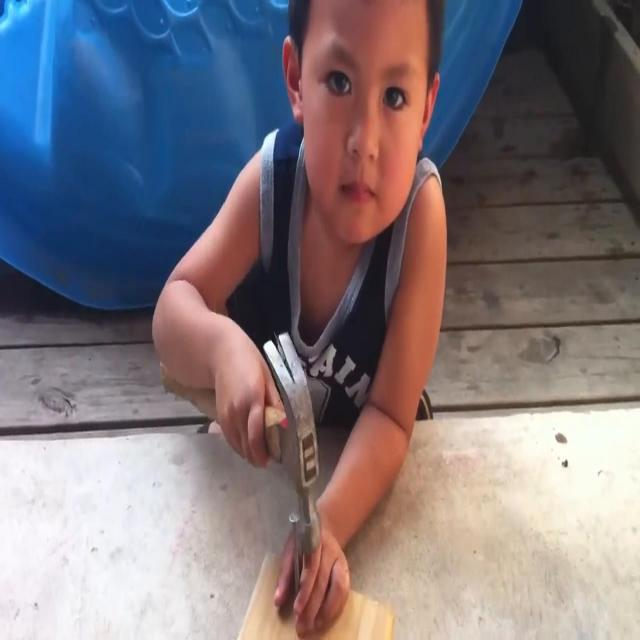hammer: (160, 333, 322, 561)
